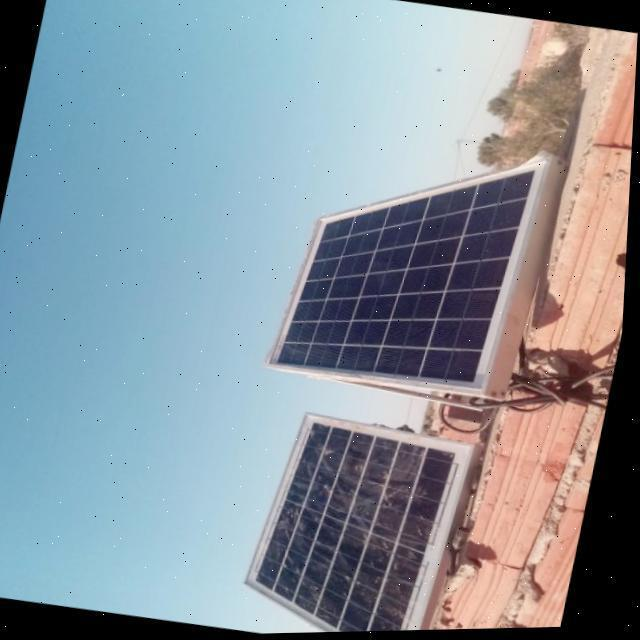Normal Solar Panel: (271, 125, 545, 404)
